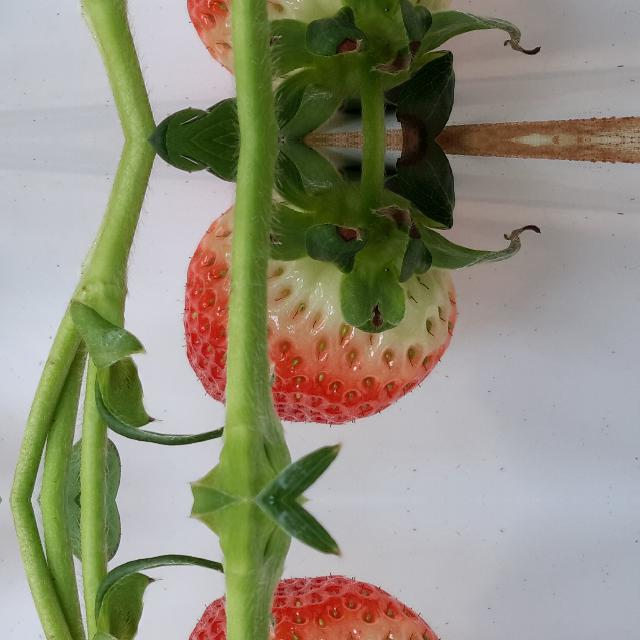Health_75: (182, 188, 458, 428), (181, 0, 458, 92), (181, 572, 458, 640)
